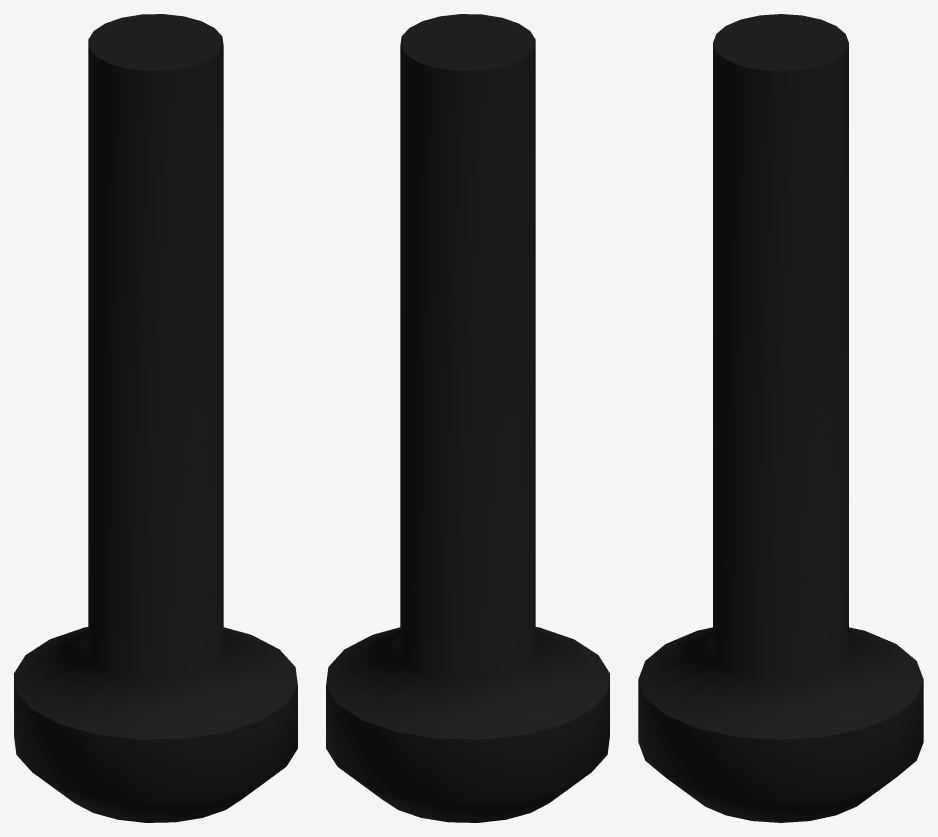
Rendered from light_top.obj.
3 renders of one model, left to right at view 1: azimuth 30°, elevation 25°; view 2: azimuth 150°, elevation 25°; view 3: azimuth 270°, elevation 25°, orthographic.
Parts seen in each view (by area): view 1: light_top:light_top; view 2: light_top:light_top; view 3: light_top:light_top.
Boxes of the visible parts, left/top/right/bottom form: light_top:light_top: left=14, top=14, right=297, bottom=822; light_top:light_top: left=326, top=14, right=609, bottom=822; light_top:light_top: left=638, top=14, right=923, bottom=822.
Size of the model in its own units: 0.1843 by 0.5277 by 0.1843.
1 material, 1 textured.
